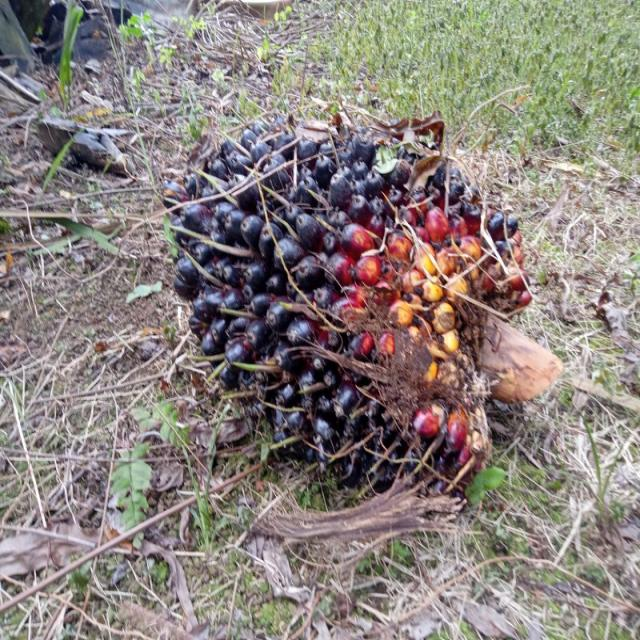fraksi 00: (158, 124, 532, 492)
